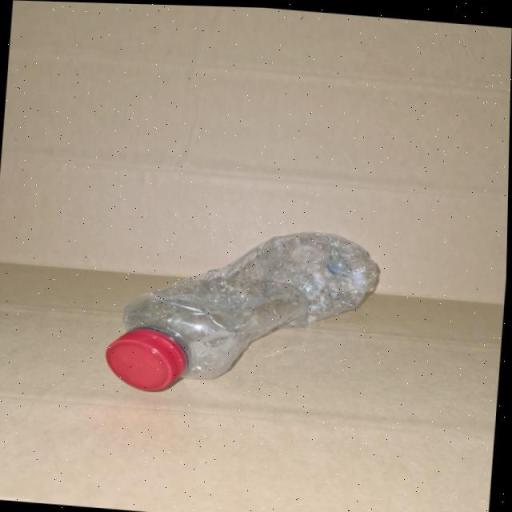plastic: (94, 206, 413, 414)
